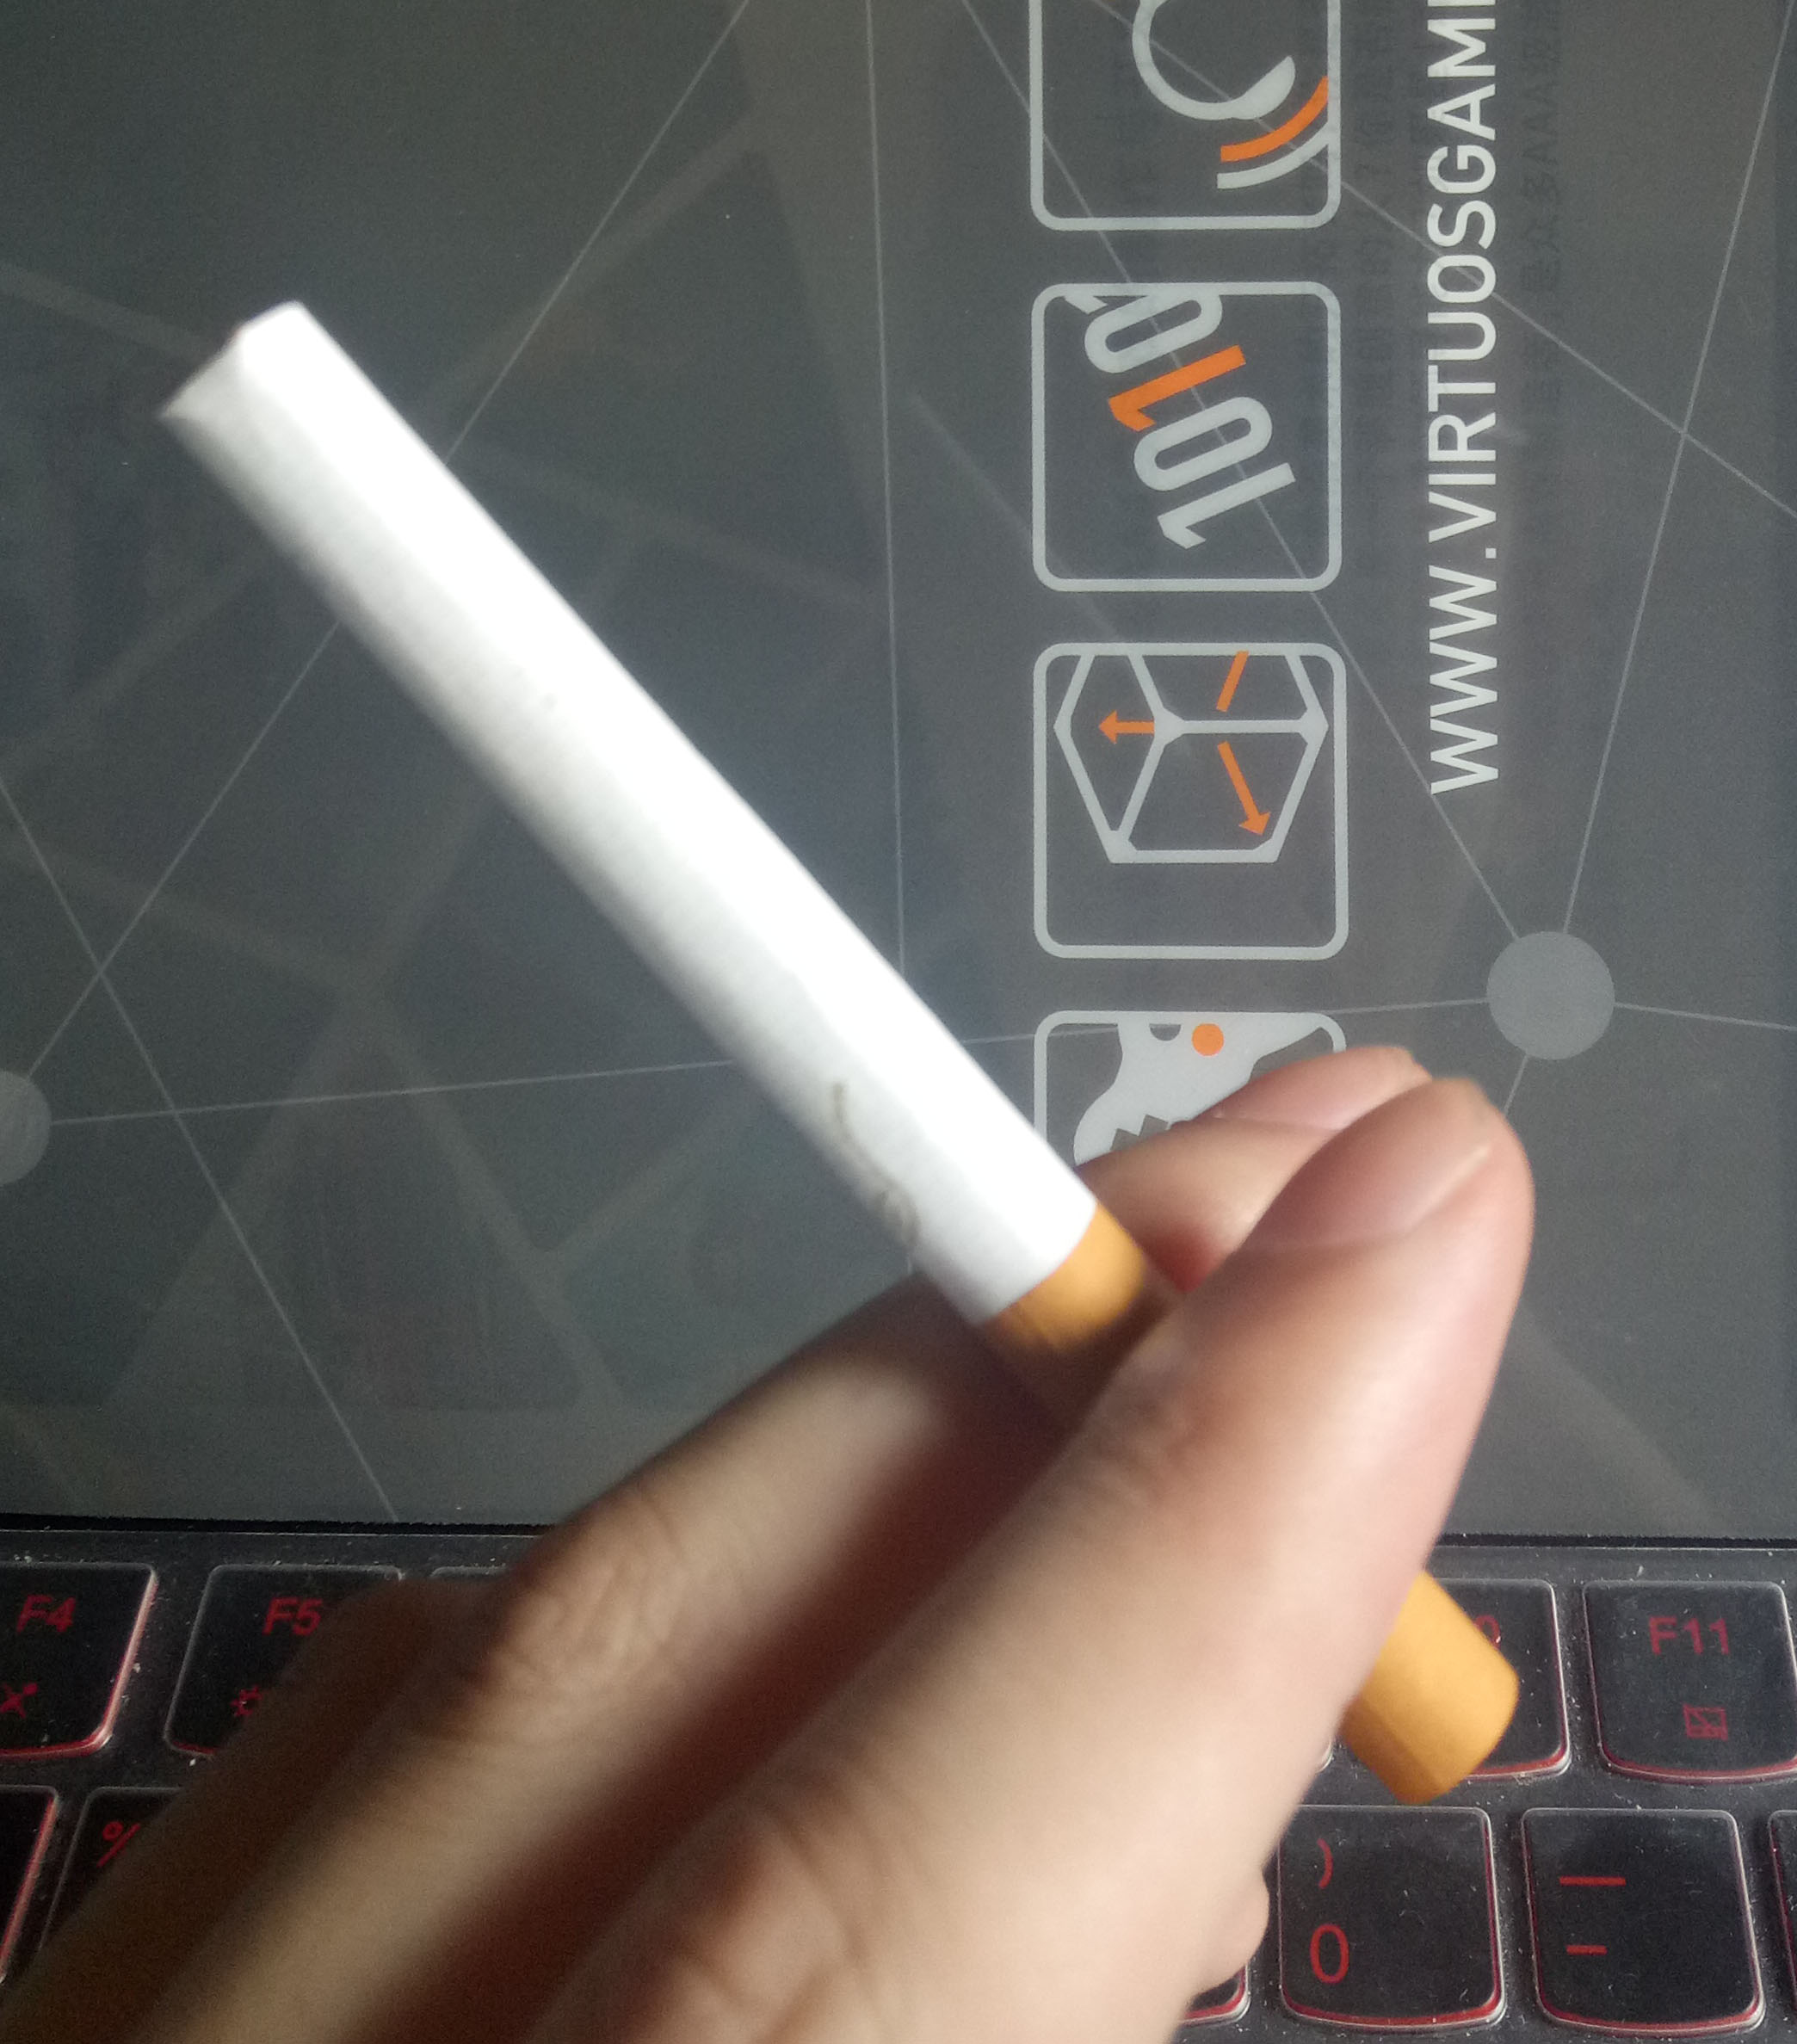cigarette: (127, 266, 1547, 1823)
